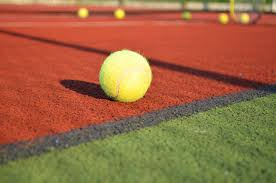tennis_ball: (98, 48, 151, 102), (112, 6, 126, 22), (75, 6, 91, 20), (237, 12, 250, 25), (217, 11, 229, 25), (182, 9, 192, 22)
